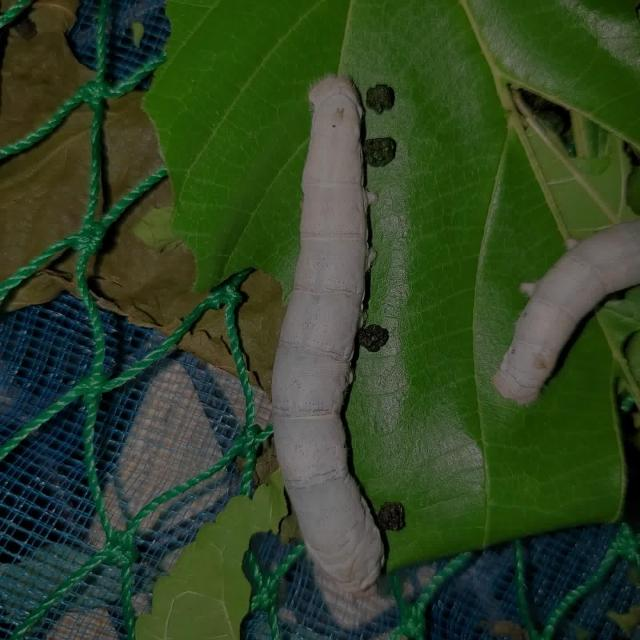Healthy: (233, 52, 451, 612)
